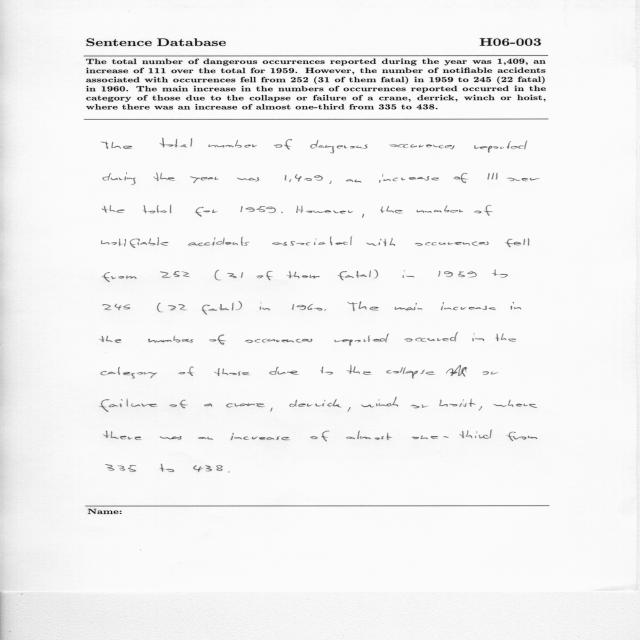word: (387, 365, 468, 379), (310, 140, 368, 153), (102, 237, 169, 248), (101, 399, 157, 412), (272, 237, 352, 246), (412, 430, 492, 439), (334, 333, 389, 346), (474, 140, 527, 153), (101, 367, 157, 378), (188, 237, 249, 246), (379, 174, 439, 183), (404, 332, 458, 342), (346, 430, 392, 440), (296, 206, 353, 214), (441, 302, 496, 310), (230, 433, 290, 440), (290, 399, 342, 407), (103, 173, 136, 185), (201, 303, 234, 315), (208, 140, 257, 148), (415, 241, 489, 246), (361, 397, 398, 407), (417, 205, 463, 213), (493, 400, 537, 408), (102, 272, 137, 282), (105, 431, 142, 440), (160, 138, 193, 148), (389, 144, 455, 149), (338, 270, 371, 280), (148, 336, 193, 343), (284, 174, 323, 182), (348, 302, 379, 312), (439, 399, 476, 407), (214, 368, 250, 376), (245, 339, 313, 343), (508, 432, 538, 441), (287, 271, 320, 279), (240, 206, 276, 213), (347, 365, 372, 375), (102, 141, 132, 149), (269, 367, 299, 375), (106, 464, 136, 472), (438, 271, 477, 277), (367, 238, 396, 246), (195, 207, 218, 217), (143, 205, 171, 213), (505, 238, 529, 247), (160, 271, 190, 278), (292, 304, 322, 311), (193, 465, 223, 472), (274, 139, 293, 150), (474, 205, 493, 216), (395, 303, 423, 310), (226, 403, 265, 408), (310, 431, 329, 441), (102, 205, 125, 213), (380, 206, 403, 214), (496, 333, 516, 342), (153, 173, 175, 181), (190, 177, 219, 183), (209, 335, 226, 345), (100, 335, 121, 343), (103, 304, 130, 310), (178, 366, 194, 376), (169, 400, 188, 408), (453, 173, 468, 183), (257, 271, 273, 280), (168, 304, 187, 311), (492, 270, 508, 278), (160, 464, 174, 472), (320, 367, 333, 375), (507, 178, 540, 181), (227, 272, 243, 278), (403, 270, 415, 278), (473, 333, 485, 341), (238, 177, 260, 181), (160, 436, 182, 440), (260, 303, 270, 311), (511, 302, 521, 310), (487, 173, 498, 180), (411, 405, 428, 409), (346, 179, 362, 183), (235, 301, 242, 310), (215, 270, 221, 280), (483, 371, 498, 375), (198, 436, 213, 440), (157, 303, 163, 312), (374, 270, 378, 279), (204, 403, 213, 407), (348, 407, 351, 412), (479, 406, 482, 411), (329, 181, 332, 184), (362, 214, 364, 218), (270, 408, 272, 412), (324, 309, 326, 311), (281, 212, 283, 213), (228, 472, 230, 473)
